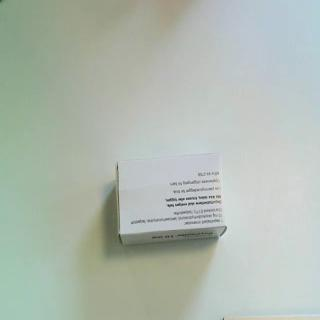oxynorm10mg: (114, 151, 228, 247)
